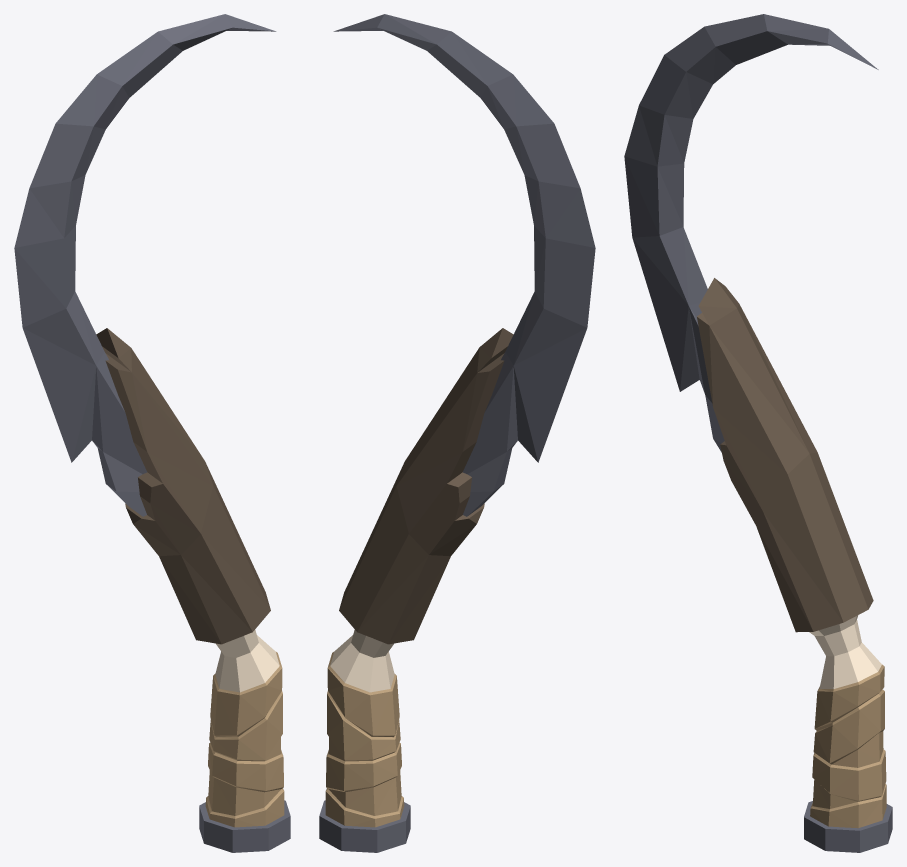
File: dagger_dagger_11.glb
The picture shows the model from 3 angles, left to right: view 1: azimuth 30°, elevation 25°; view 2: azimuth 150°, elevation 25°; view 3: azimuth 330°, elevation 25°; orthographic projection. The views are drawn at different scales.
Parts seen in each view (by area): view 1: dagger_11; view 2: dagger_11; view 3: dagger_11.
Part boxes in pixels (<box>): dagger_11: <box>14,14,290,852</box>; dagger_11: <box>319,14,595,852</box>; dagger_11: <box>624,14,892,852</box>.
Size of the model in its own units: 14.52 by 42.14 by 4.38.
1 material, 1 textured.
